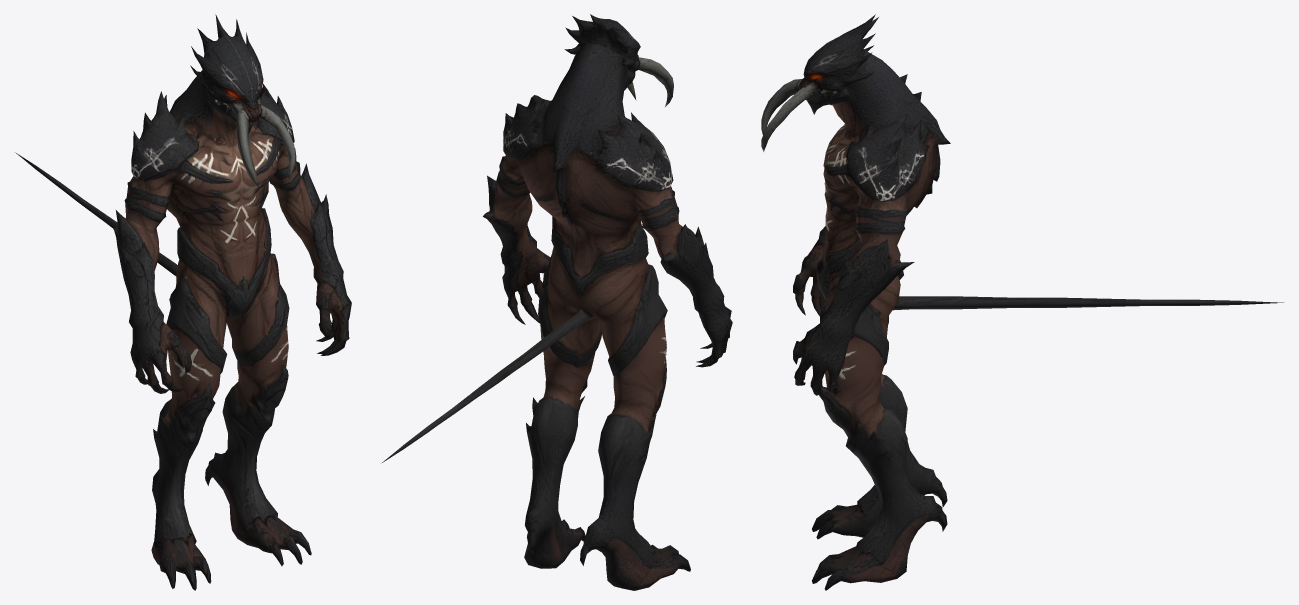
Rendered from 019f418a-18e9-71b1-b4f4-6a9159efe7a0.glb.
3 renders of one model, left to right at view 1: azimuth 30°, elevation 25°; view 2: azimuth 150°, elevation 25°; view 3: azimuth 270°, elevation 25°, orthographic. The views are drawn at different scales.
Parts seen in each view (by area): view 1: tripo_node_fa9745c5-ca75-4d28-90bd-427edc974395; view 2: tripo_node_fa9745c5-ca75-4d28-90bd-427edc974395; view 3: tripo_node_fa9745c5-ca75-4d28-90bd-427edc974395.
Boxes of the visible parts, left/top/right/bottom form: tripo_node_fa9745c5-ca75-4d28-90bd-427edc974395: left=15, top=14, right=351, bottom=590; tripo_node_fa9745c5-ca75-4d28-90bd-427edc974395: left=382, top=14, right=732, bottom=590; tripo_node_fa9745c5-ca75-4d28-90bd-427edc974395: left=761, top=14, right=1283, bottom=590.
Size of the model in its own units: 0.416 by 0.998 by 0.873.
Materials: 1 (1 with a texture image).
